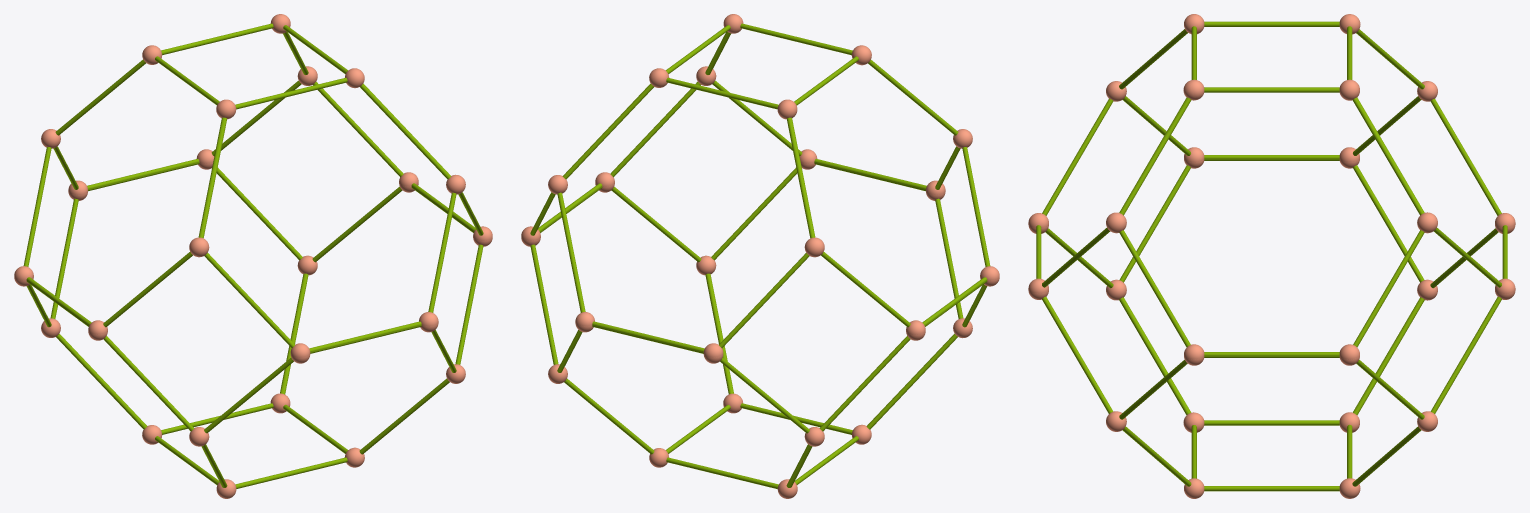
The model's file is truncated_octahedron.glb.
3 views of the same model, side by side, from view 1: azimuth 30°, elevation 25°; view 2: azimuth 150°, elevation 25°; view 3: azimuth 270°, elevation 25° (orthographic). The views are drawn at different scales.
Size of the model in its own units: 11.28 by 10.66 by 11.28.
